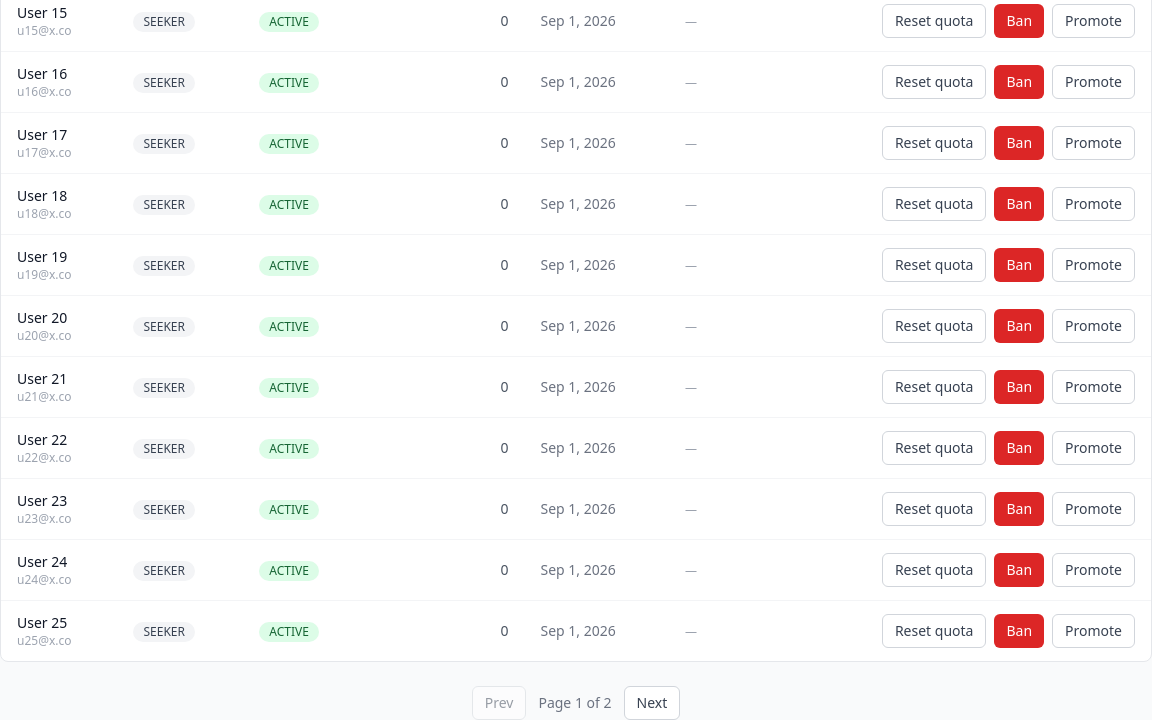
Scenario: AdminUsers — page clamp after the list shrinks › returns to the last real page instead of stranding the admin on an empty one
(page scrolled)
What coordinates should you click on to do the following:
click the button "Next"
I would click on:
 (652, 703)
Its box is [624, 686, 680, 719].
(page scrolled)
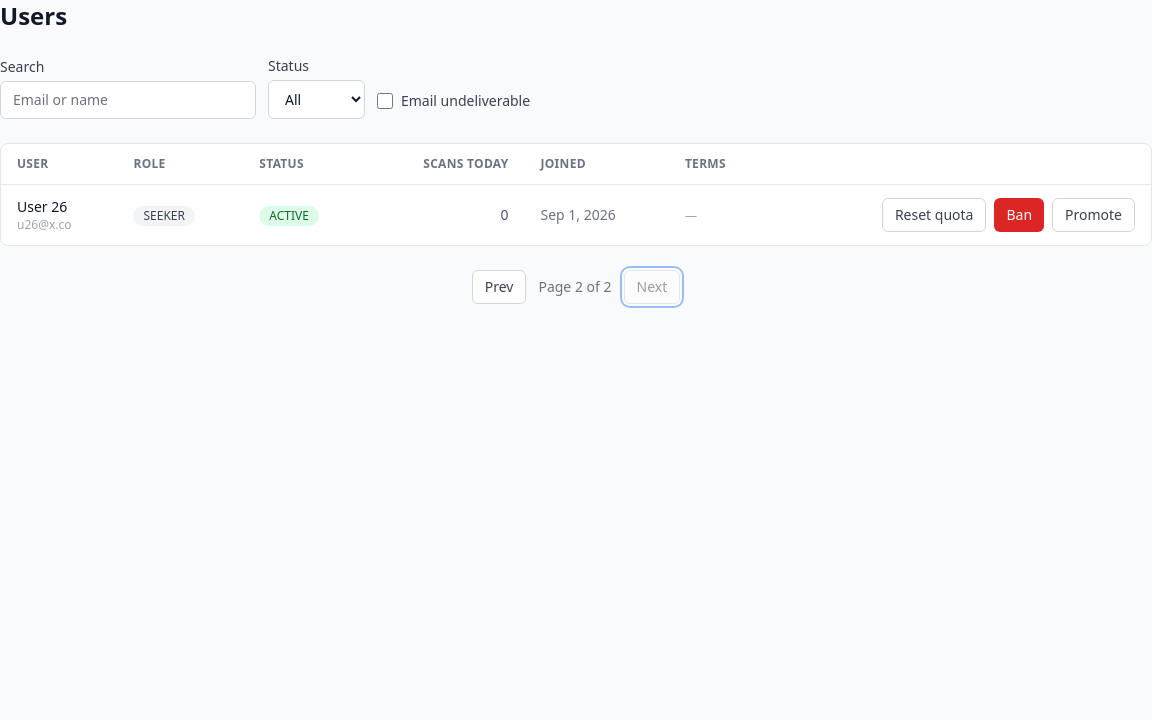
Now the text "User 26" is shown, box [17, 197, 67, 216]
What coordinates should you click on to do the following:
click the button "Ban"
I would click on:
 (1019, 215)
Its box is [994, 198, 1044, 232].
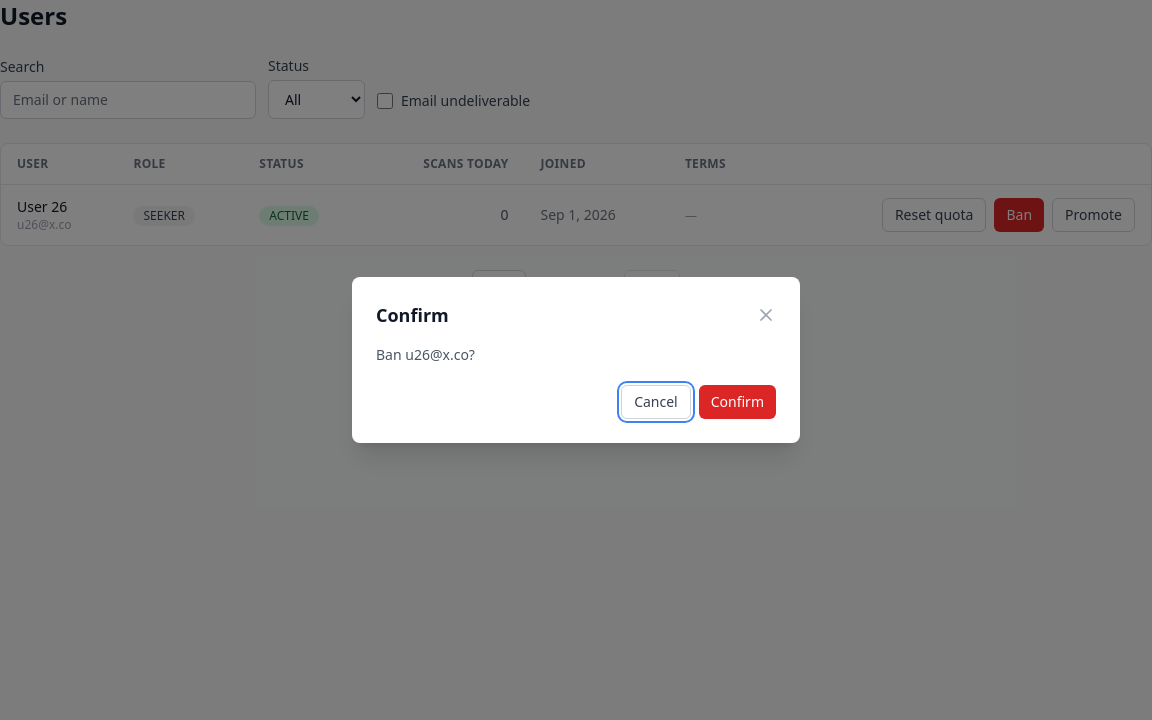
What coordinates should you click on to do the following:
click the button "Confirm"
I would click on:
 (737, 402)
Its box is [699, 385, 776, 419].
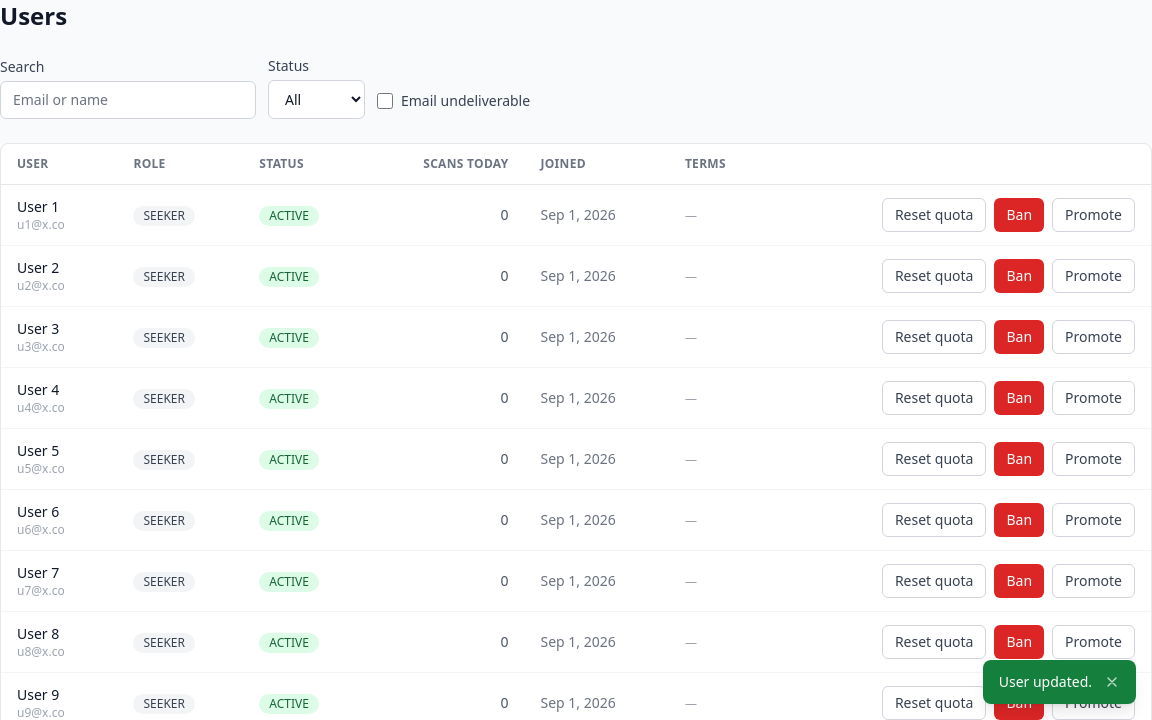
Now the text "User 1" is shown, box [17, 197, 59, 216]
